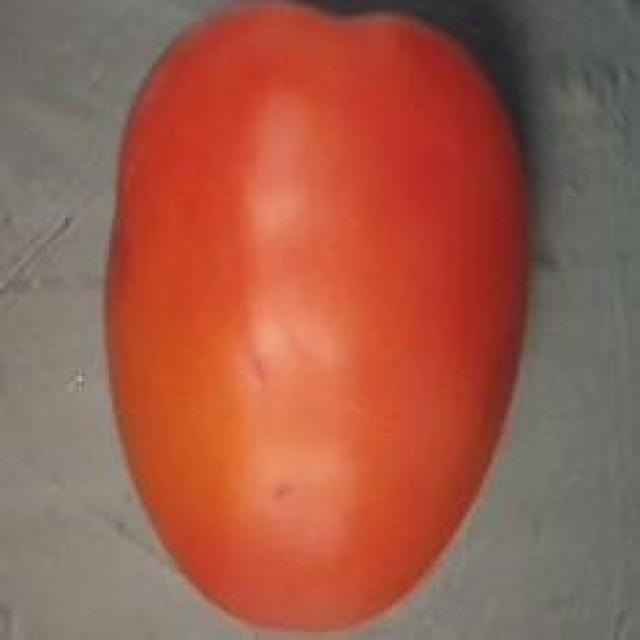ripe tomato: (92, 2, 550, 640)
